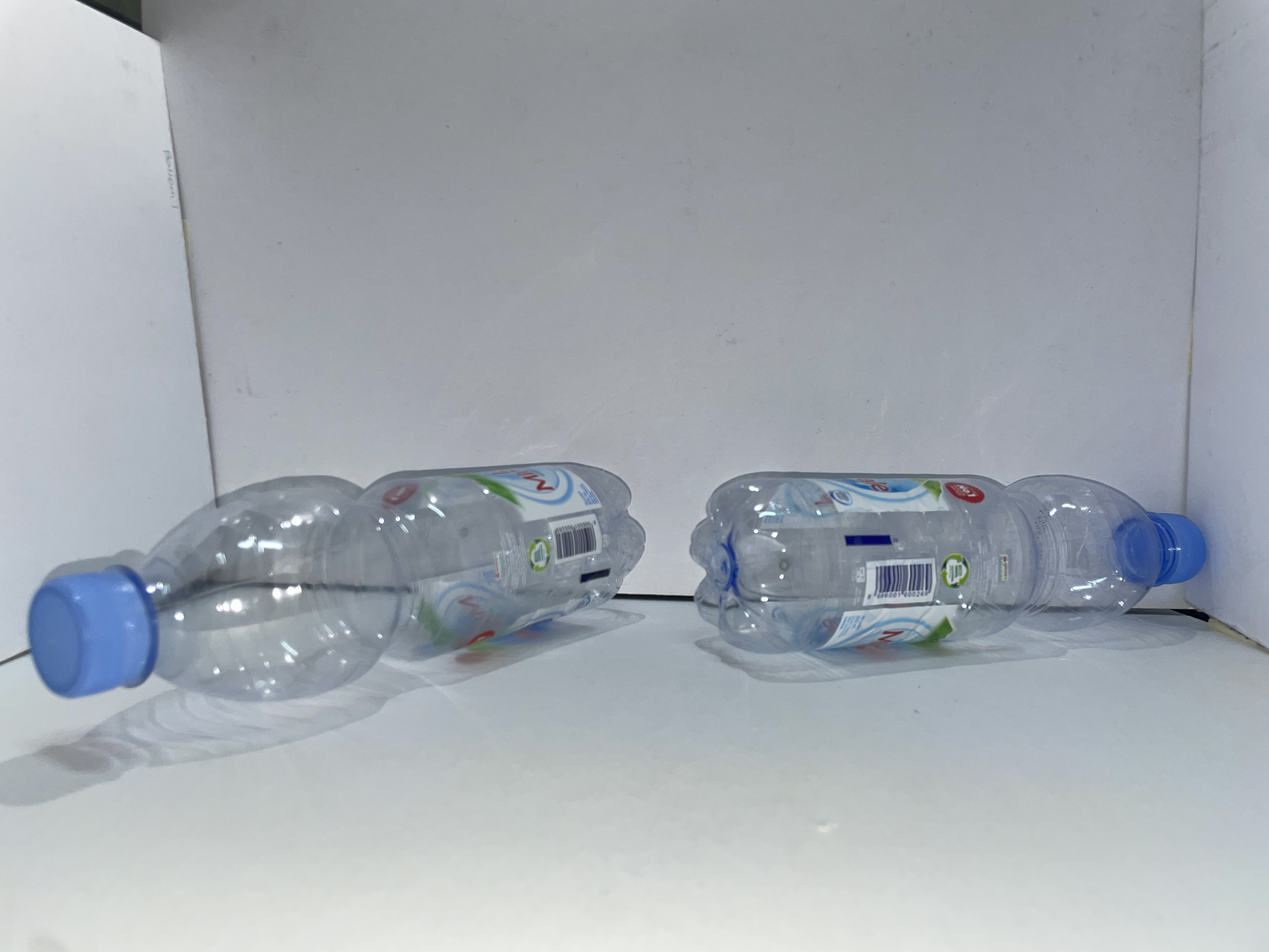Le Minerale 600ml: (28, 462, 645, 700), (691, 471, 1205, 652)
